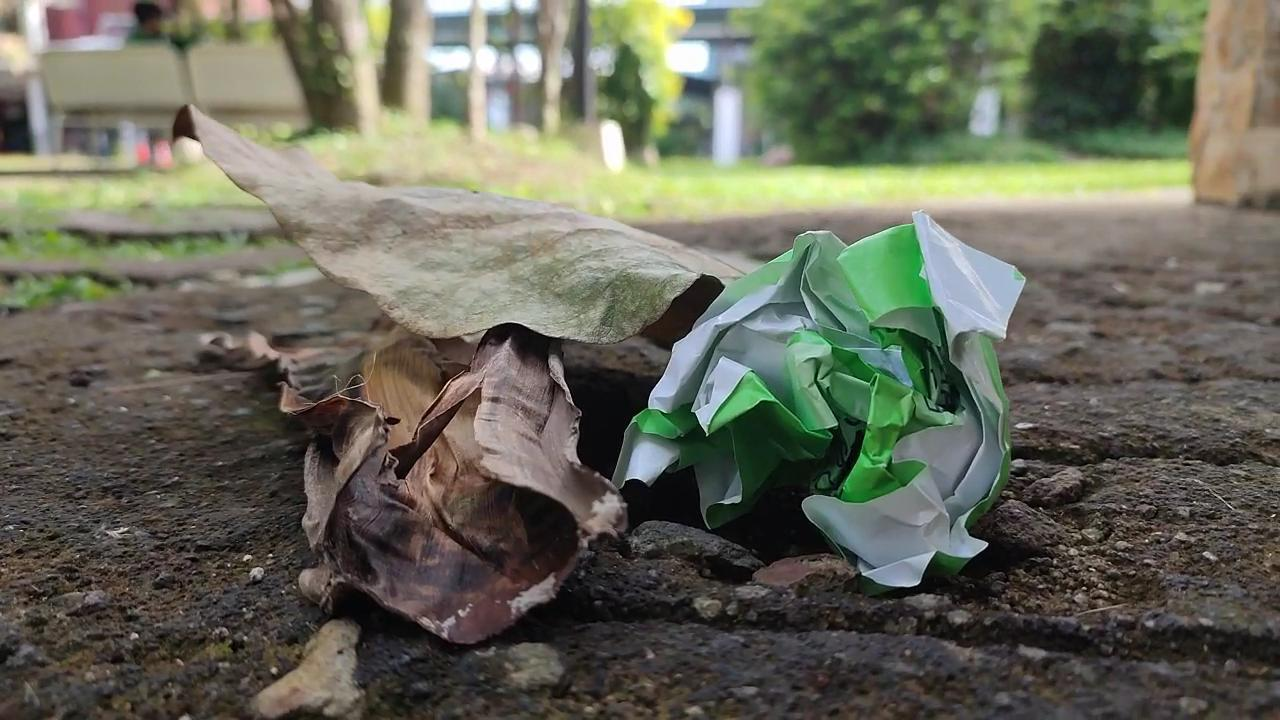Paper: (613, 217, 1030, 593)
